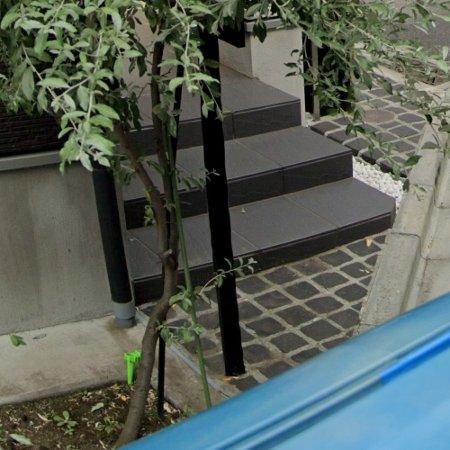stairs: (222, 65, 396, 269), (123, 182, 161, 302), (180, 189, 213, 283), (178, 98, 205, 180)
